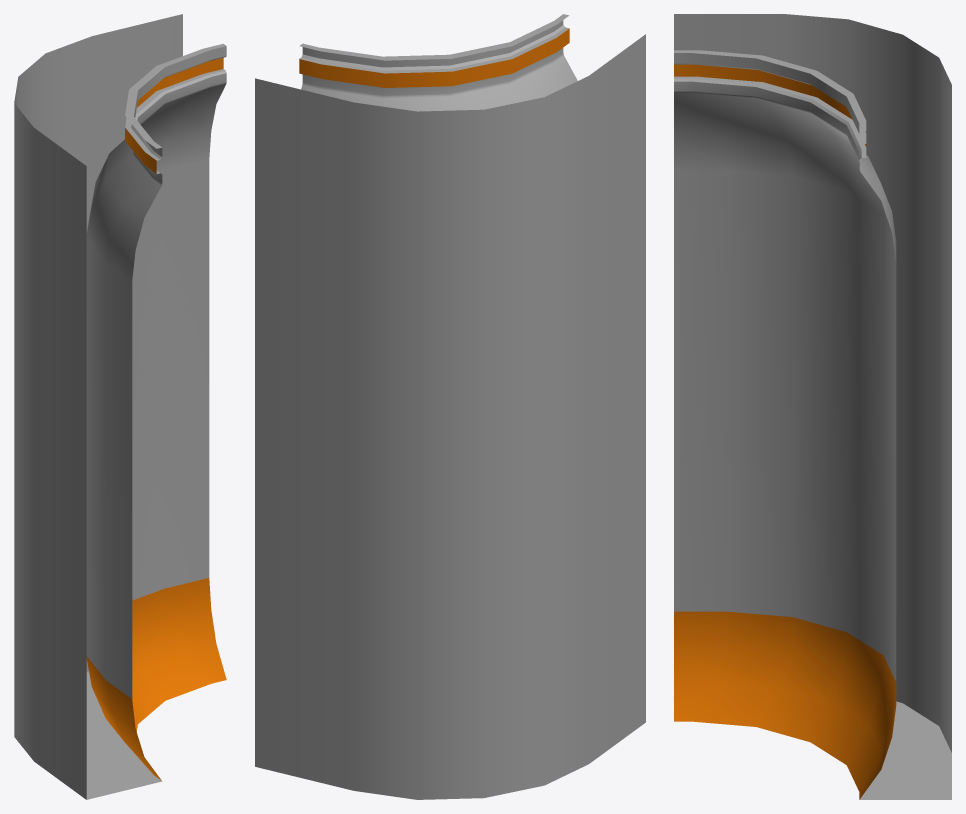
The model's file is SM_wall_corner.fbx.
3 renders of one model, left to right at view 1: azimuth 30°, elevation 25°; view 2: azimuth 150°, elevation 25°; view 3: azimuth 270°, elevation 25°, orthographic. The views are drawn at different scales.
Visible parts, largest first — view 1: polySurface12; view 2: polySurface12; view 3: polySurface12.
Boxes of the visible parts, <box> form: polySurface12: <box>14,14,226,799</box>; polySurface12: <box>255,14,645,799</box>; polySurface12: <box>674,14,951,799</box>.
Bounding box in the file's own units: 1.5 × 3.98 × 1.5.
